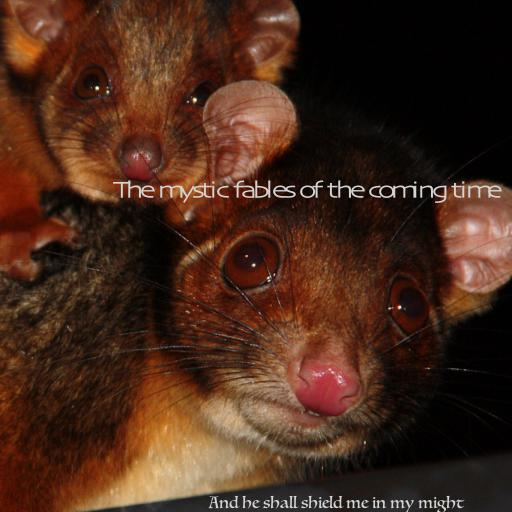Luminari: (208, 495, 464, 512)
Skia: (113, 180, 499, 203)
